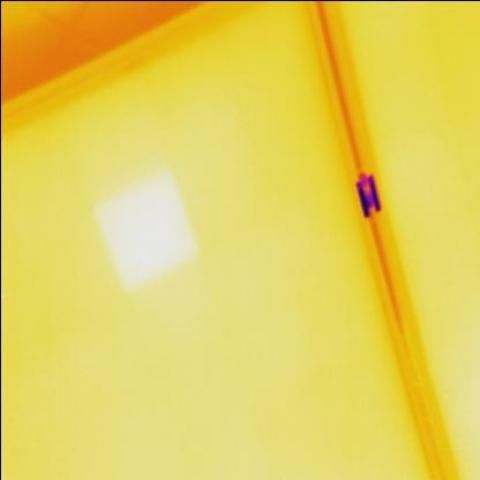fault: (84, 174, 204, 283)
